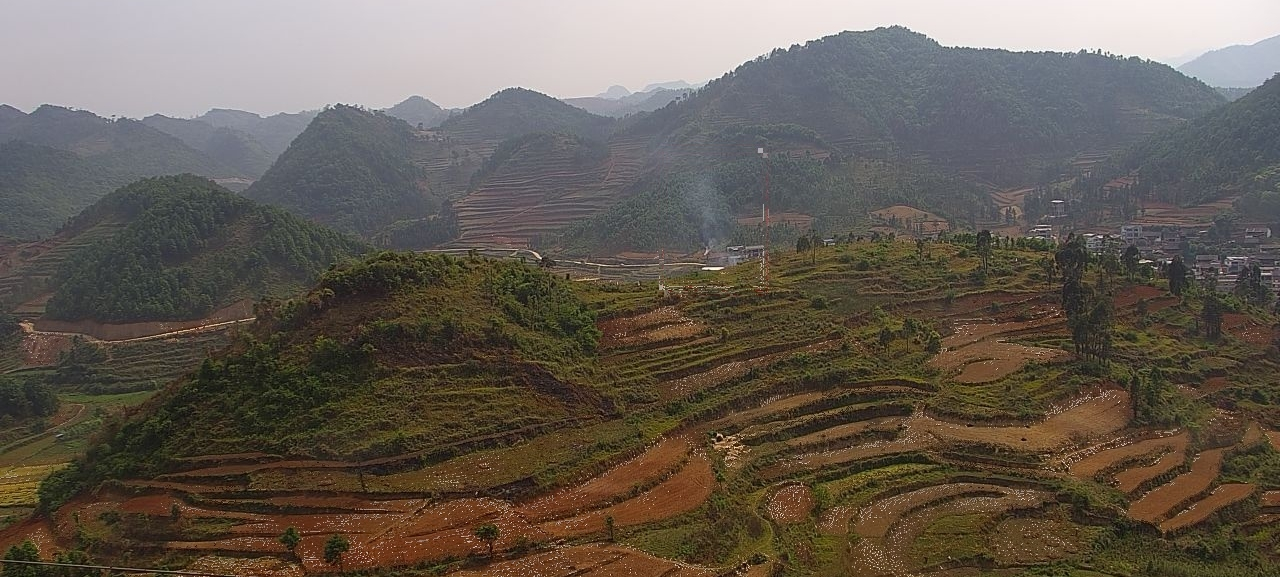烟雾: (683, 170, 748, 267)
